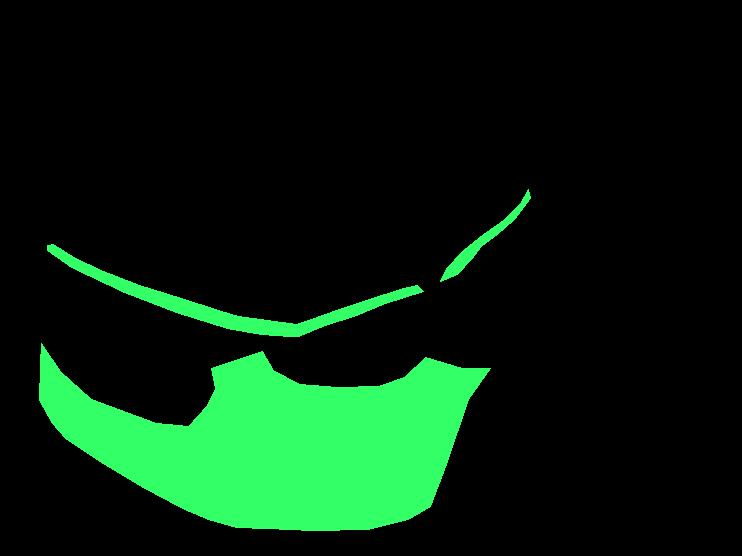Broken part: (39, 343, 490, 530), (47, 244, 423, 336), (440, 189, 530, 281)
Corrosion: (409, 370, 459, 402)
Dent: (254, 388, 405, 490)
Missing part: (305, 445, 375, 503), (239, 424, 252, 438)
Scratch: (308, 489, 335, 521), (255, 399, 271, 446), (338, 500, 380, 513), (272, 414, 302, 432), (252, 447, 305, 457)
